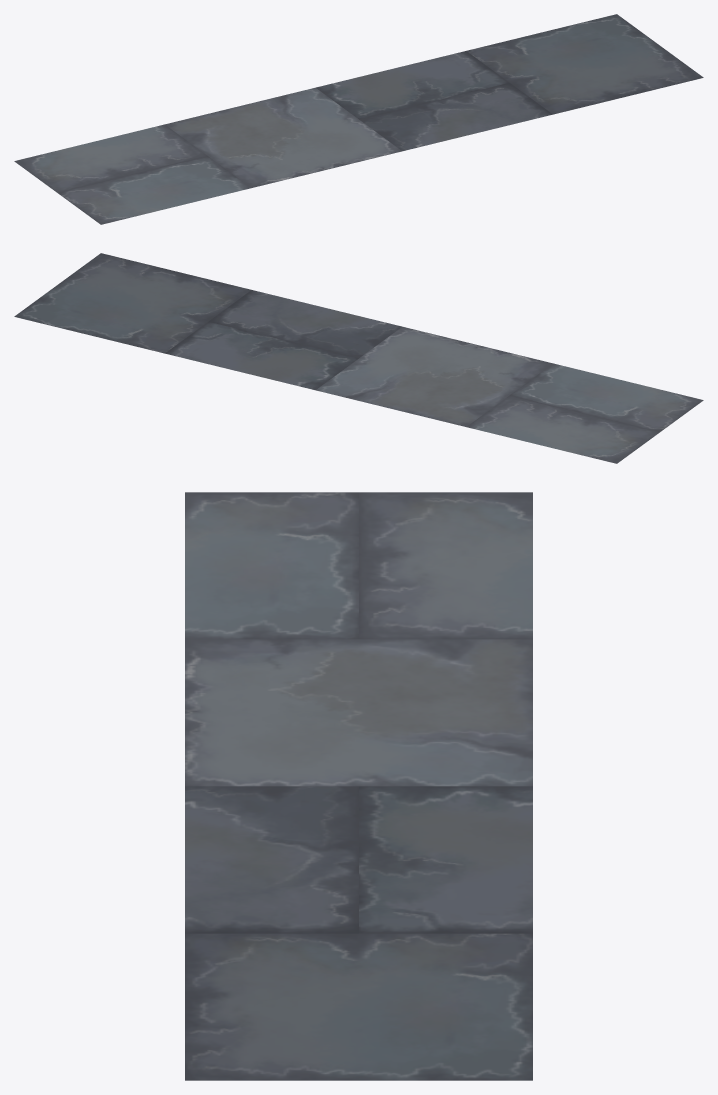
Rendered from Castle Ground X Mix 4x1.fbx.
3 views of the same model, one above another, from view 1: azimuth 30°, elevation 25°; view 2: azimuth 150°, elevation 25°; view 3: azimuth 270°, elevation 25° (orthographic). The views are drawn at different scales.
Visible parts, largest first — view 1: Castle Ground X Mix 4x1; view 2: Castle Ground X Mix 4x1; view 3: Castle Ground X Mix 4x1.
Boxes of the visible parts, left/top/right/bottom form: Castle Ground X Mix 4x1: left=14, top=14, right=703, bottom=224; Castle Ground X Mix 4x1: left=14, top=253, right=703, bottom=463; Castle Ground X Mix 4x1: left=185, top=492, right=532, bottom=1080.
Size of the model in its own units: 3 by 5.86e-07 by 0.75.
